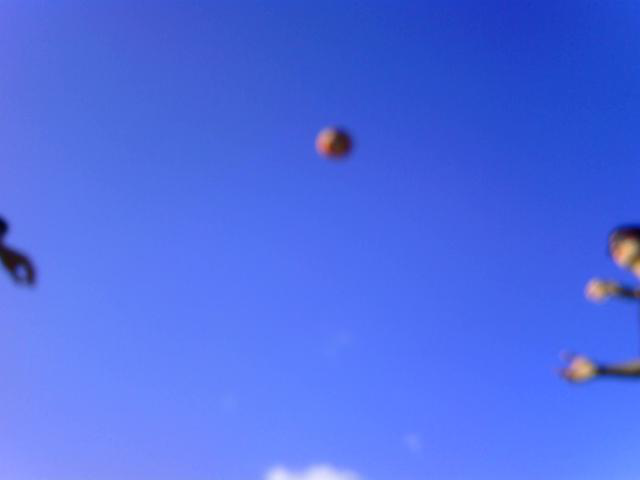football: (312, 125, 351, 160)
